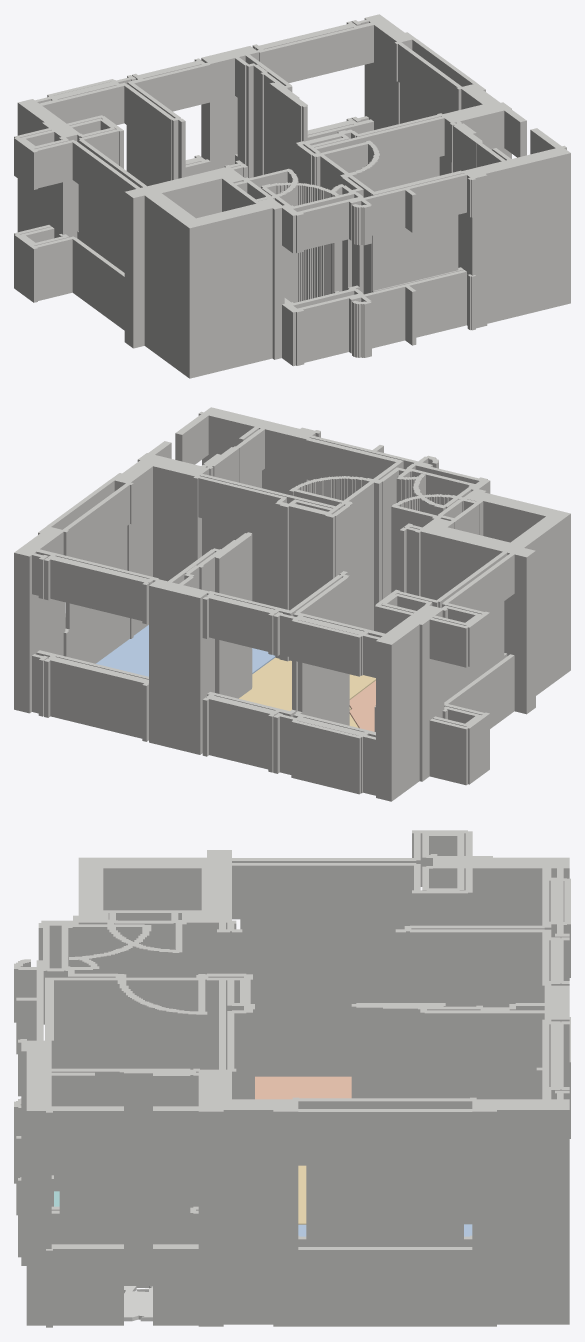
3 views of the same model, one above another, from view 1: azimuth 30°, elevation 25°; view 2: azimuth 150°, elevation 25°; view 3: azimuth 270°, elevation 25° (orthographic). The views are drawn at different scales.
Parts seen in each view (by area): view 1: walls; view 2: walls, room:living:4, room:bedroom:0, room:kitchen:5; view 3: walls, room:kitchen:5, room:ledge:3.
Boxes of the visible parts, x1,y1,x2,y2 form: walls: (14,14,570,378); walls: (14,407,570,801); room:living:4: (239,657,375,727); room:bedroom:0: (96,625,275,676); room:kitchen:5: (349,680,375,731); walls: (14,830,570,1327); room:kitchen:5: (255,1076,351,1099); room:ledge:3: (124,1286,152,1321).
Bounding box in the file's own units: 7.89 × 2.8 × 6.58.
